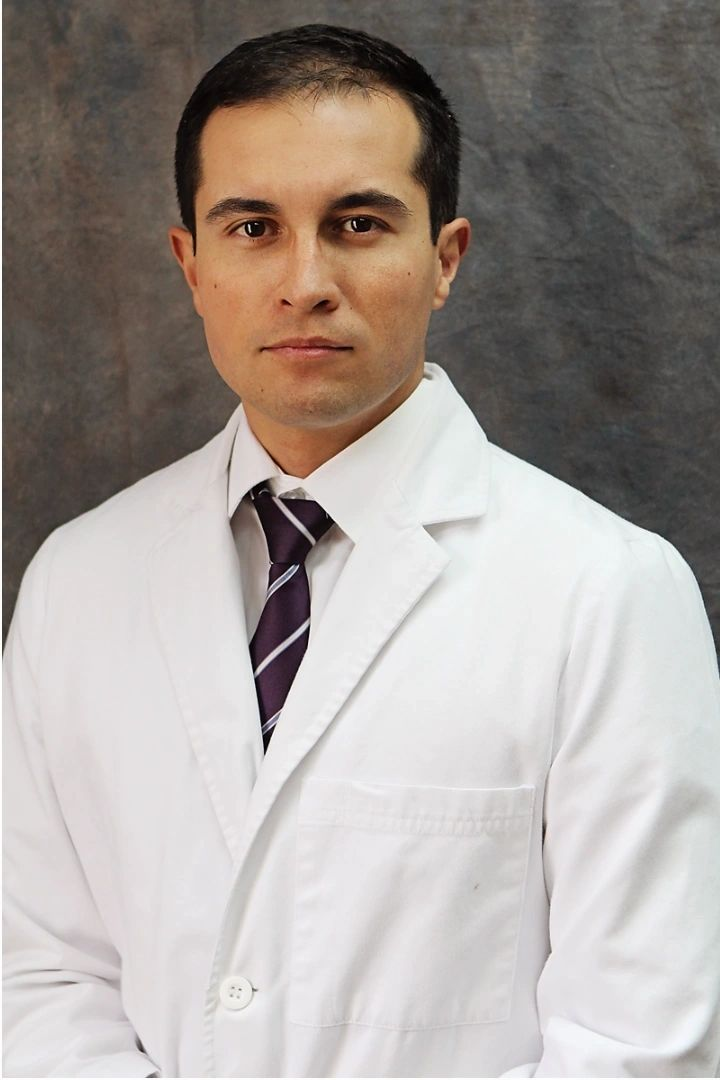person: (1, 21, 720, 1080)
